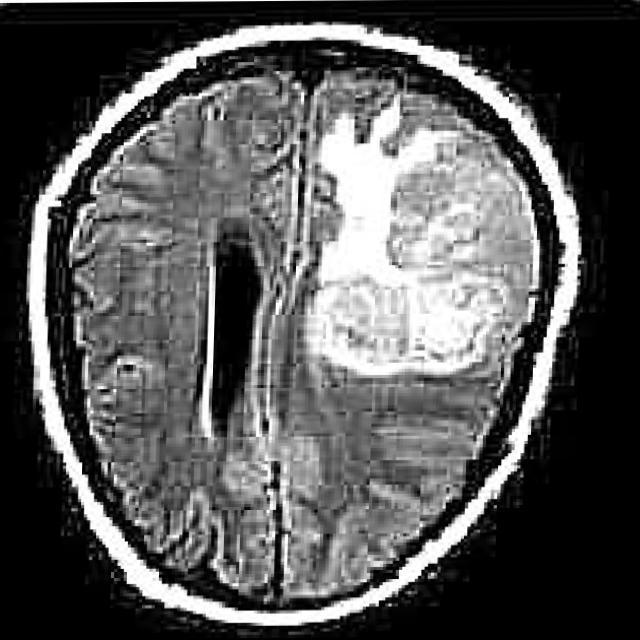Tumor: (303, 101, 508, 378)
